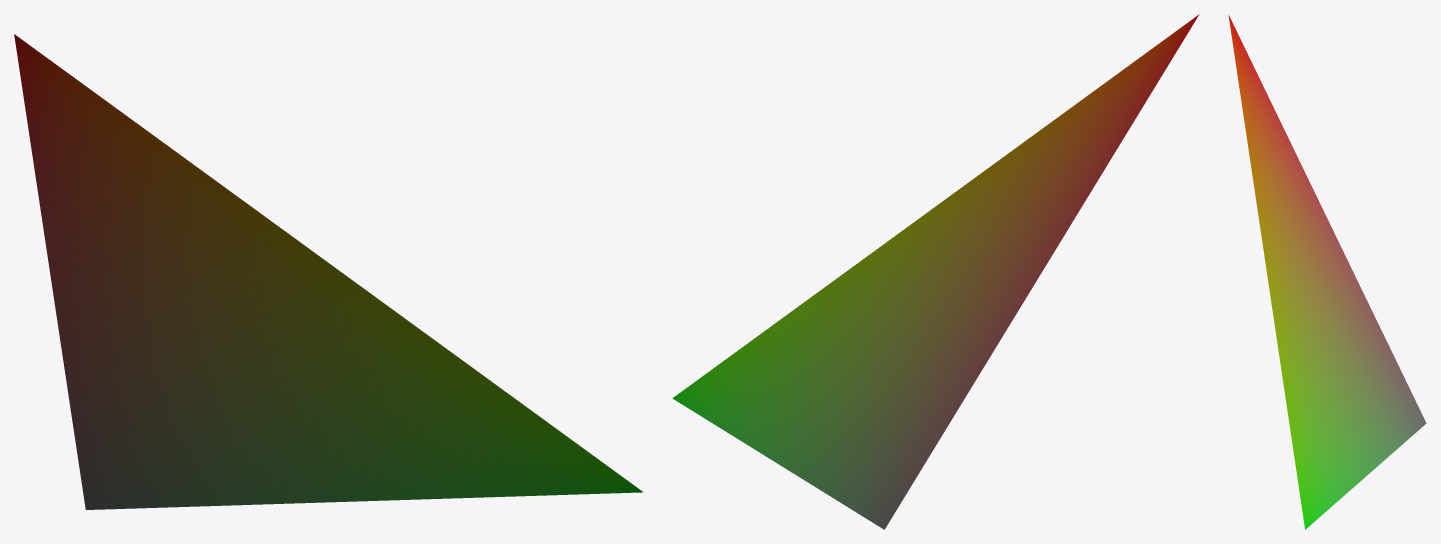
The model's file is start_border_patch_1.obj.
3 views of the same model, side by side, from view 1: azimuth 30°, elevation 25°; view 2: azimuth 150°, elevation 25°; view 3: azimuth 270°, elevation 25° (orthographic). The views are drawn at different scales.
Size of the model in its own units: 1.2 by 1.12 by 0.5846.
